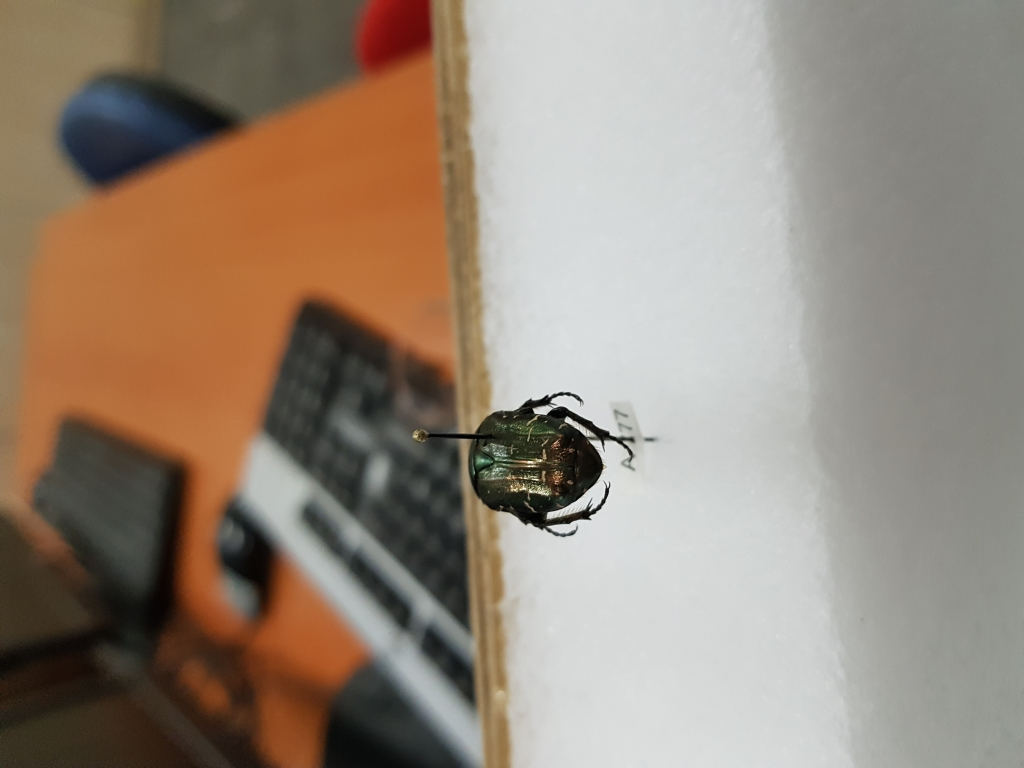Cetonia_aurata: (465, 393, 633, 546)
